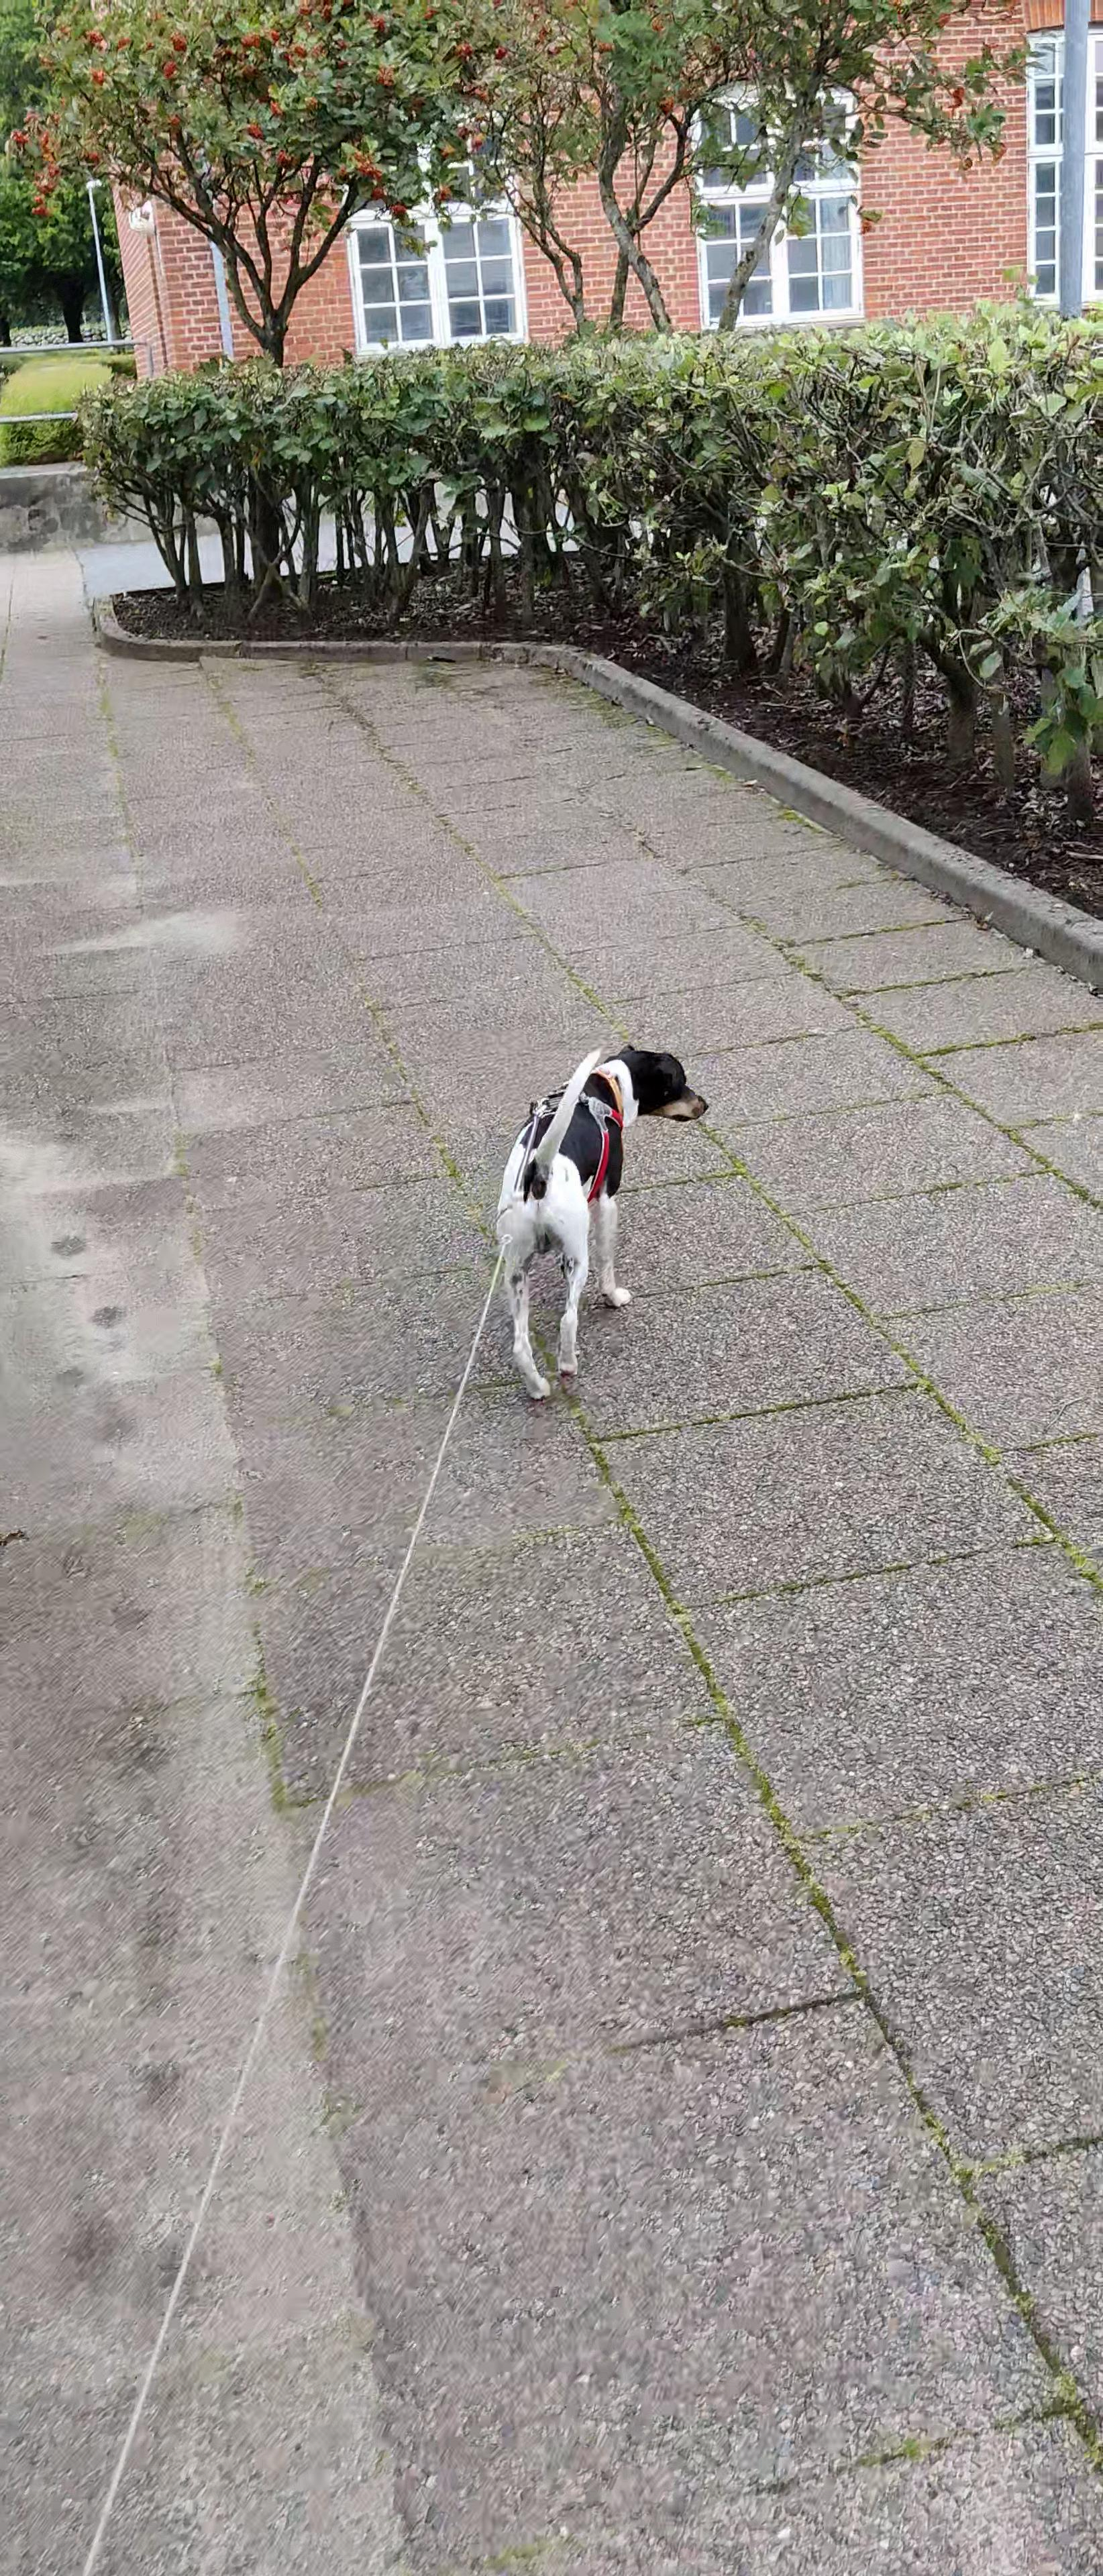Dog: (472, 1028, 722, 1423)
